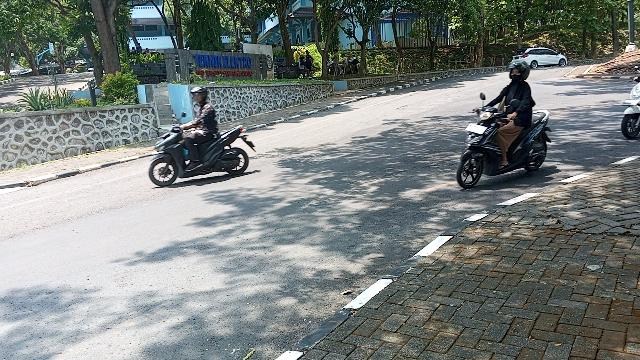helm: (508, 62, 532, 85), (189, 87, 210, 106)
motor: (456, 93, 554, 190), (148, 111, 258, 190)
